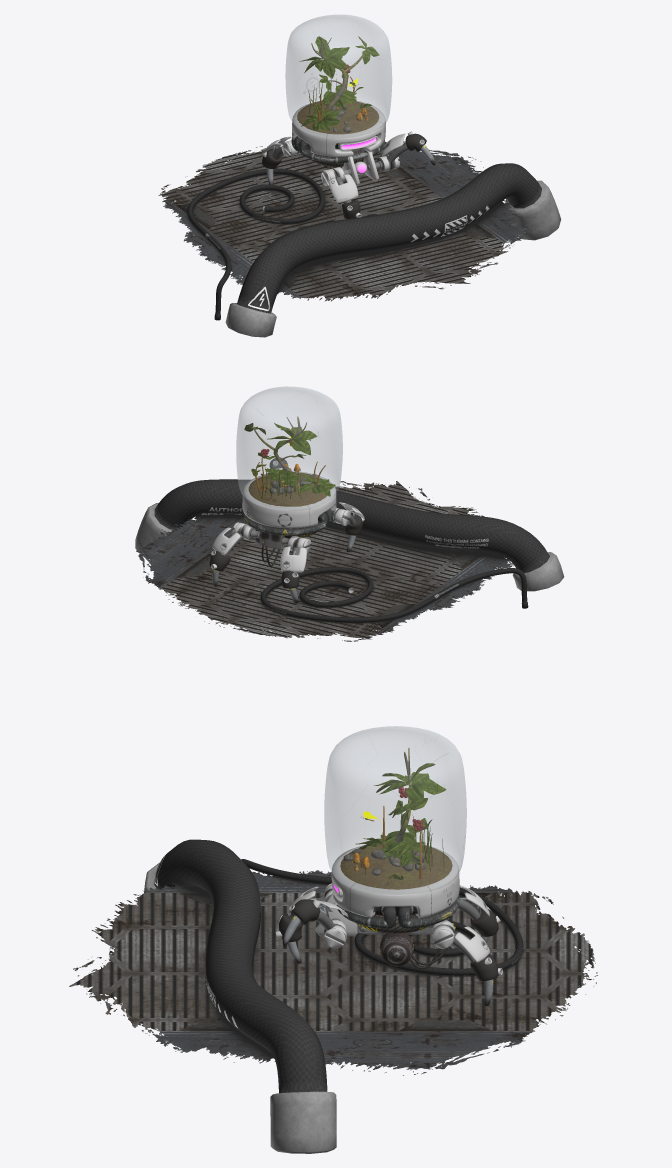
Rendered from terrarium_bot.glb.
3 renders of one model, top to bottom at view 1: azimuth 30°, elevation 25°; view 2: azimuth 150°, elevation 25°; view 3: azimuth 270°, elevation 25°, orthographic. The views are drawn at different scales.
Visible parts, largest first — view 1: ground, NurbsPath.002, glas_low, gravel, base_low, legs_low, plate_low, angle_low, pipe_low, connector_low; view 2: ground, NurbsPath.002, glas_low, gravel, base_low, legs_low, plate_low, pipe_low, angle_low; view 3: ground, NurbsPath.002, glas_low, gravel, base_low, legs_low, pipe_low, plate_low, motor_low, angle_low.
Boxes of the visible parts, x1,y1,x2,y2 form: ground: [158, 141, 528, 301]; NurbsPath.002: [187, 163, 561, 337]; glas_low: [285, 15, 391, 138]; gravel: [297, 36, 379, 134]; base_low: [292, 99, 385, 156]; legs_low: [262, 131, 435, 219]; plate_low: [263, 133, 405, 202]; angle_low: [281, 140, 399, 185]; pipe_low: [291, 136, 384, 162]; connector_low: [342, 147, 378, 185]; ground: [136, 481, 513, 641]; NurbsPath.002: [135, 479, 564, 622]; glas_low: [236, 386, 342, 510]; gravel: [244, 416, 335, 506]; base_low: [242, 471, 336, 528]; legs_low: [209, 457, 363, 602]; plate_low: [212, 468, 364, 572]; pipe_low: [242, 509, 335, 535]; angle_low: [232, 507, 350, 553]; ground: [69, 870, 597, 1075]; NurbsPath.002: [144, 839, 523, 1153]; glas_low: [324, 726, 466, 894]; gravel: [340, 747, 452, 889]; base_low: [331, 844, 459, 918]; legs_low: [275, 896, 502, 1005]; pipe_low: [336, 893, 460, 928]; plate_low: [288, 885, 490, 962]; motor_low: [379, 923, 455, 969]; angle_low: [324, 883, 454, 948].
Size of the model in its own units: 1177 by 605 by 1161.
Materials: 6 (6 with a texture image).
